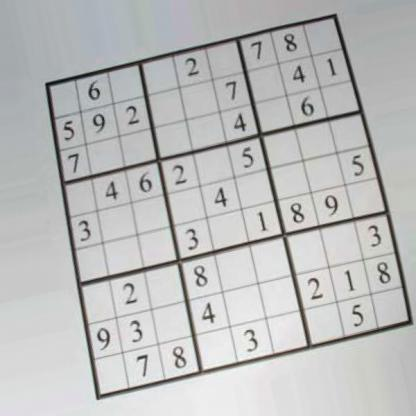sudoku: (41, 11, 414, 403)
